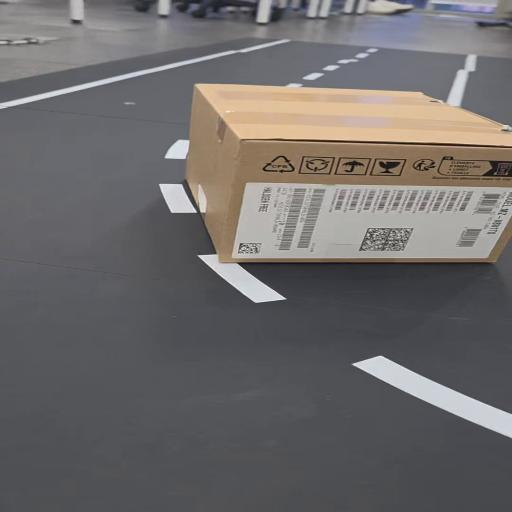Box: (174, 78, 512, 268)
